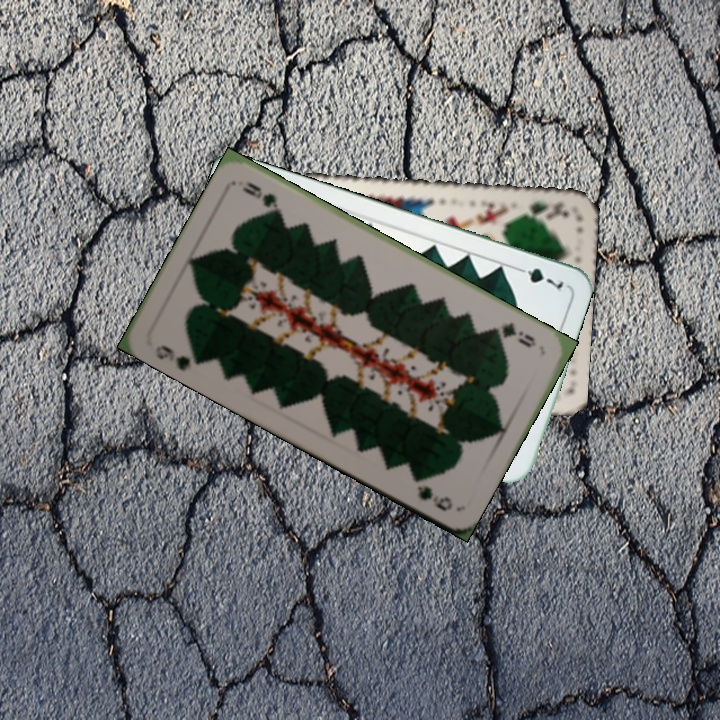G7: (510, 262, 567, 294)
G9: (151, 340, 205, 374), (487, 318, 539, 351)
GK: (513, 197, 572, 221)
